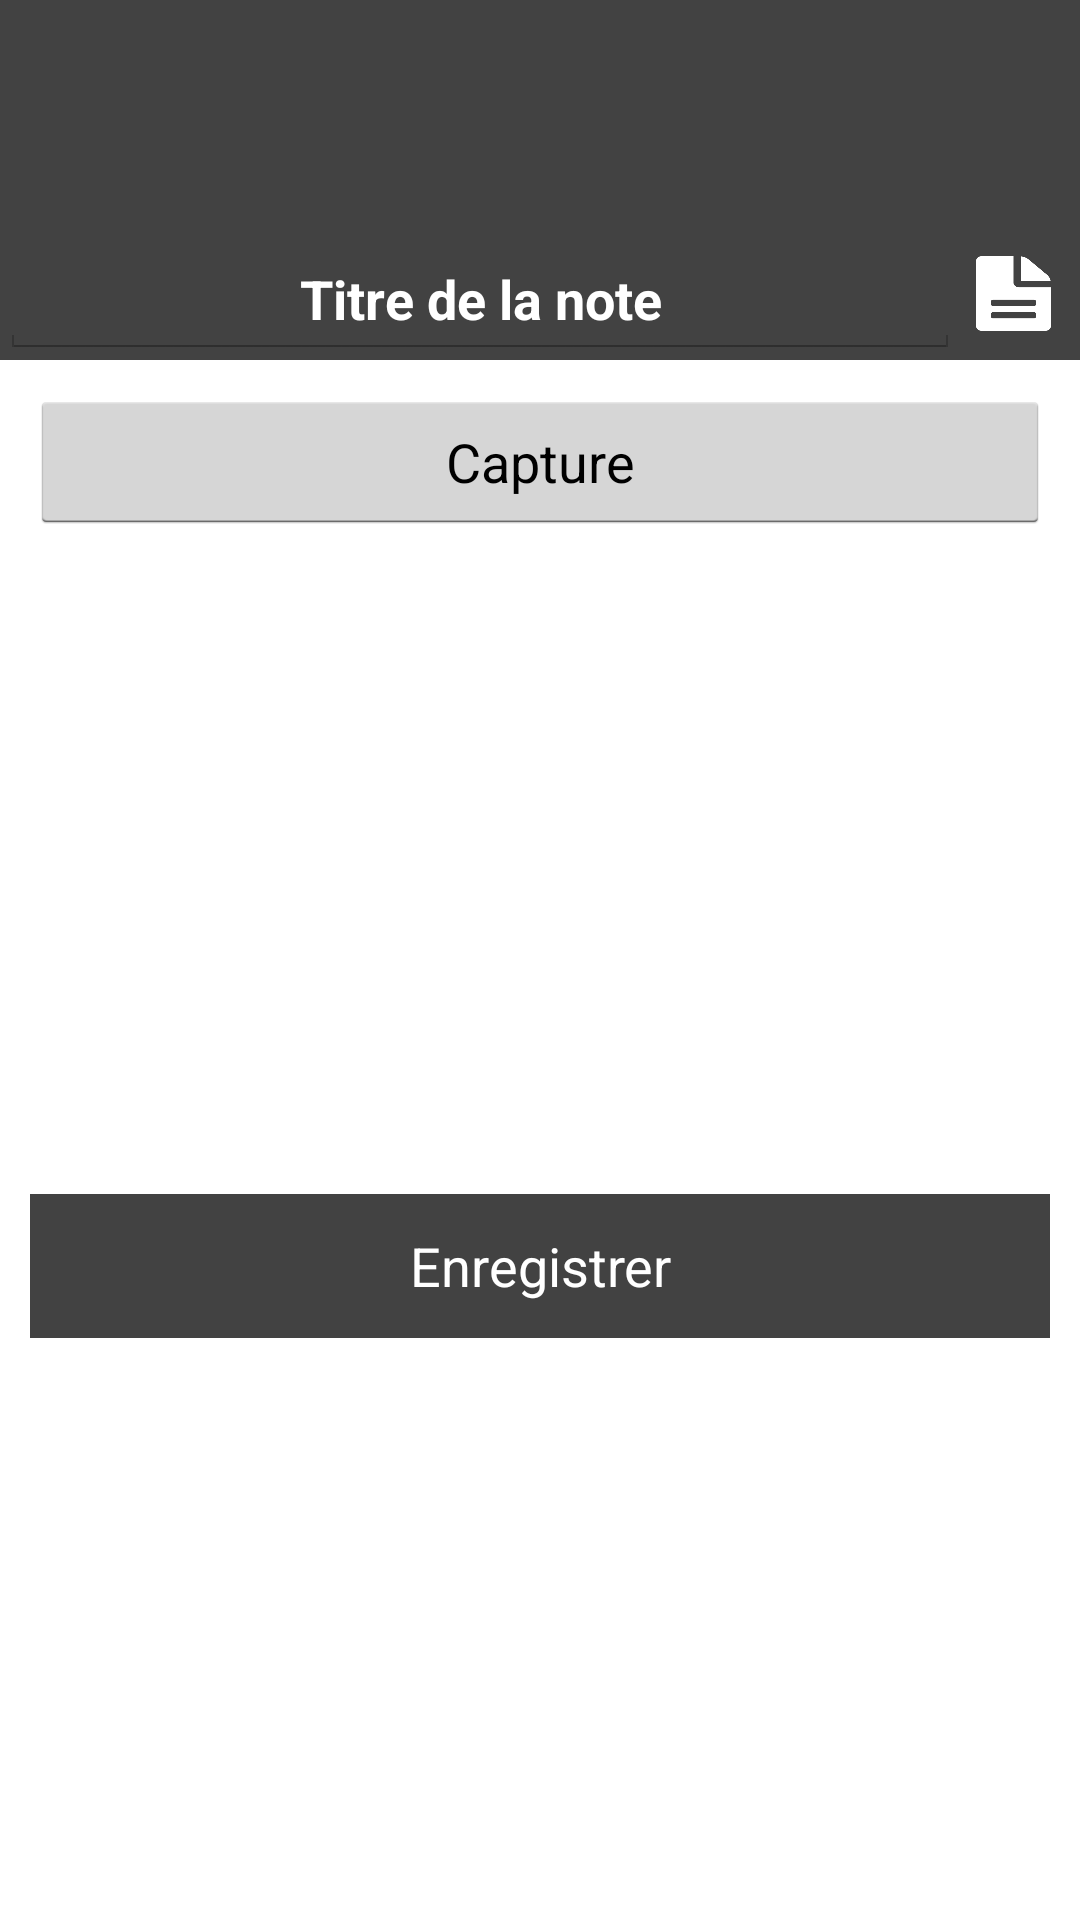

Point at icon controls on the screen. Image size 1080*1920, points as (x,y).
text: (1013,293)
